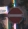No entry: (5, 5, 23, 24)
